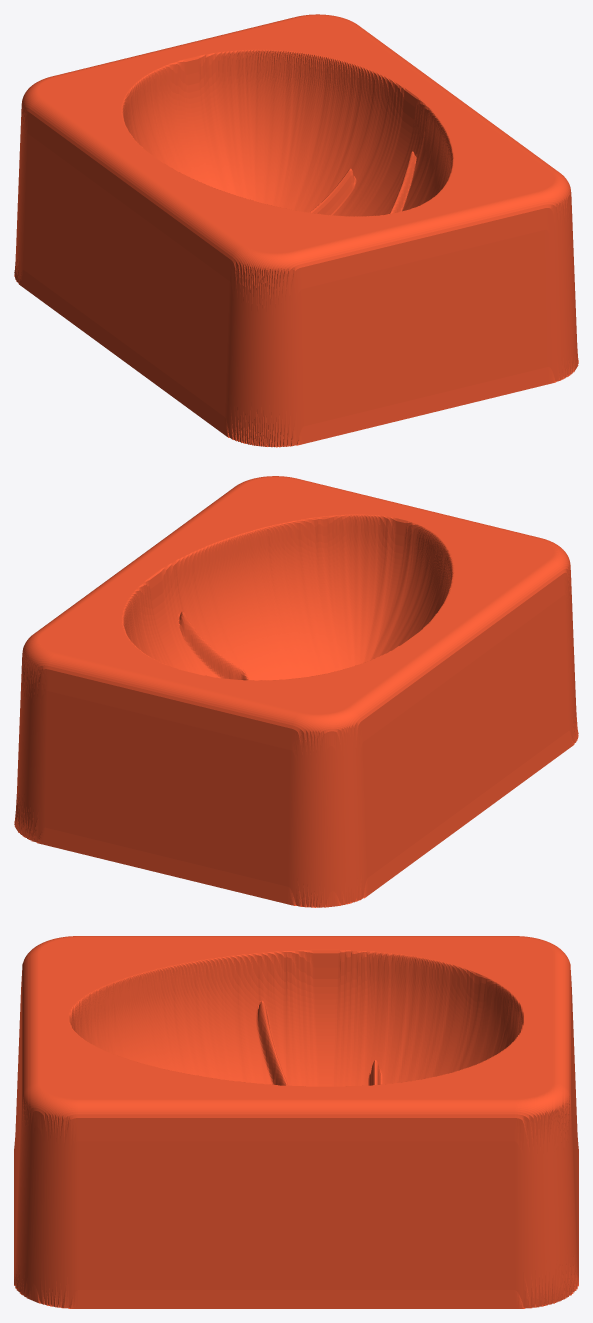
File: mold.glb
3 renders of one model, top to bottom at view 1: azimuth 30°, elevation 25°; view 2: azimuth 150°, elevation 25°; view 3: azimuth 270°, elevation 25°, orthographic. The views are drawn at different scales.
Parts seen in each view (by area): view 1: geometry_0; view 2: geometry_0; view 3: geometry_0.
Part boxes in pixels (x1,y1,x2,y2): geometry_0: (14,14,578,447); geometry_0: (14,476,578,907); geometry_0: (14,936,578,1308).
Size of the model in its own units: 0.0612 by 0.031 by 0.0798.
